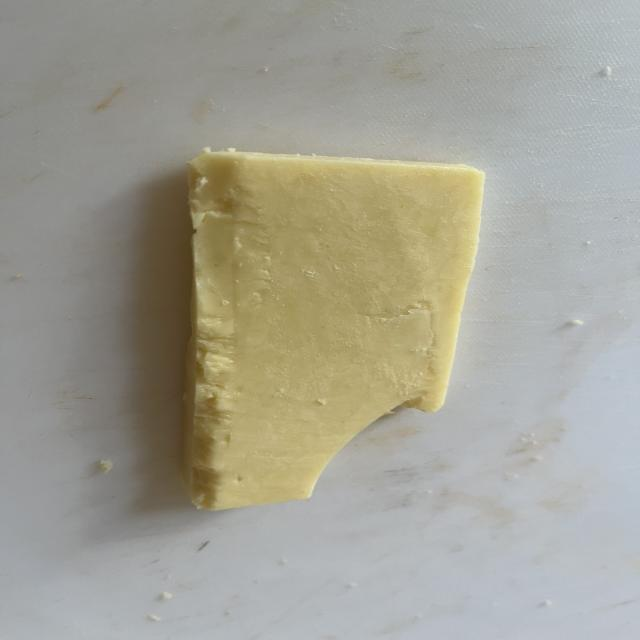cheese: (183, 149, 483, 510)
